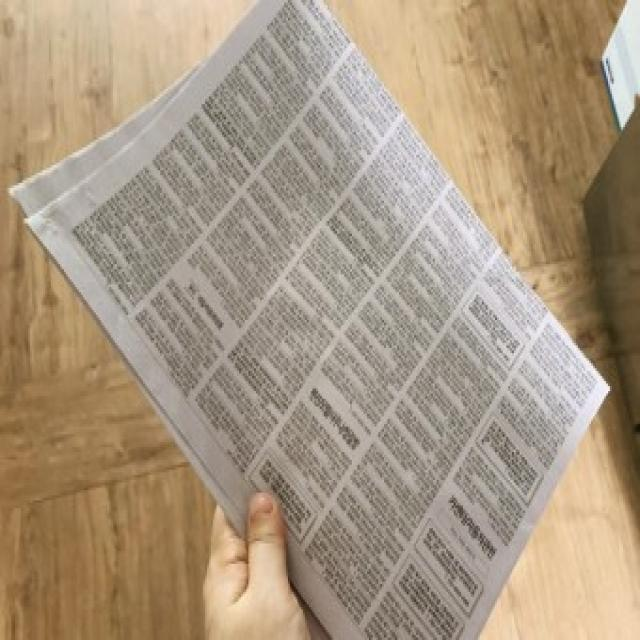reuseable_paper: (0, 2, 620, 640)
